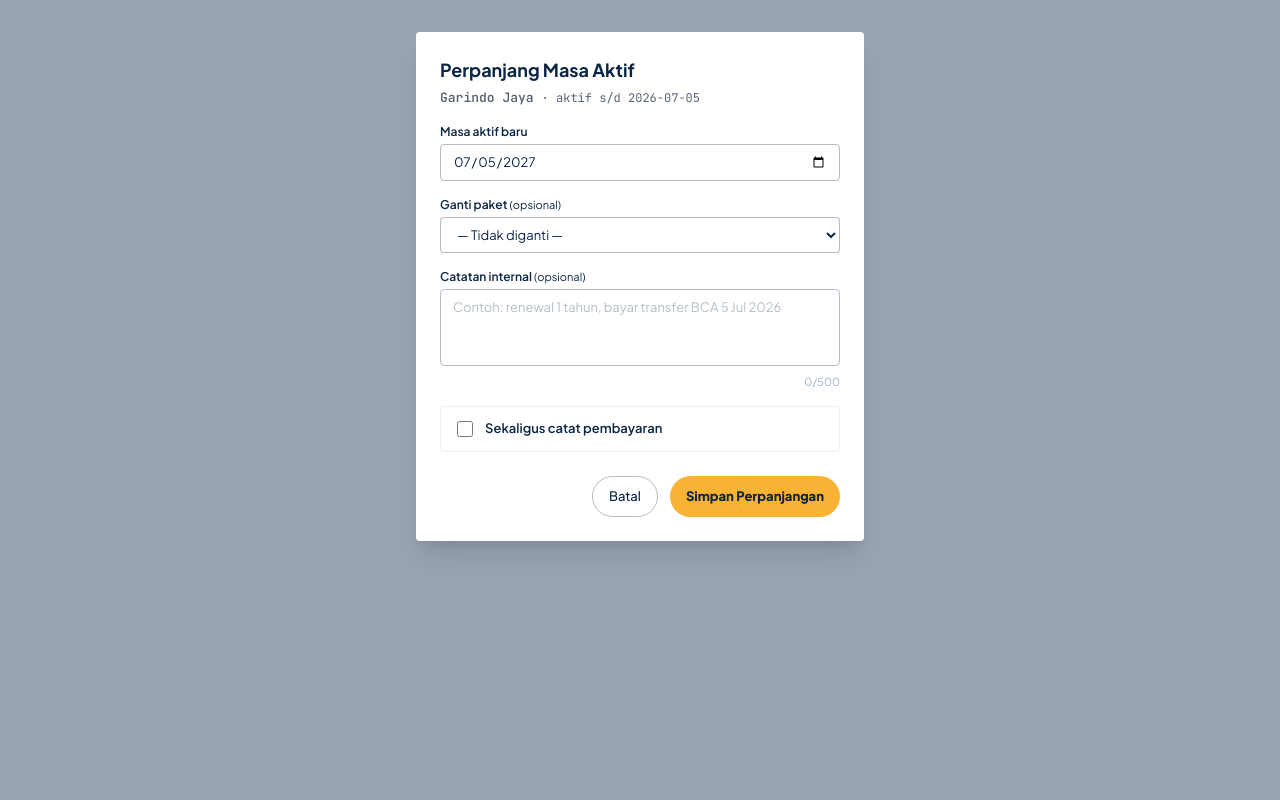
Test: RenewSubscriptionModal › expands payment fields when checkbox is checked
The image size is (1280, 800).
What coordinates should you click on to do the following:
click the checkbox with test id "renew-pay-toggle"
I would click on:
 (465, 429)
Its box is [457,421,473,437].
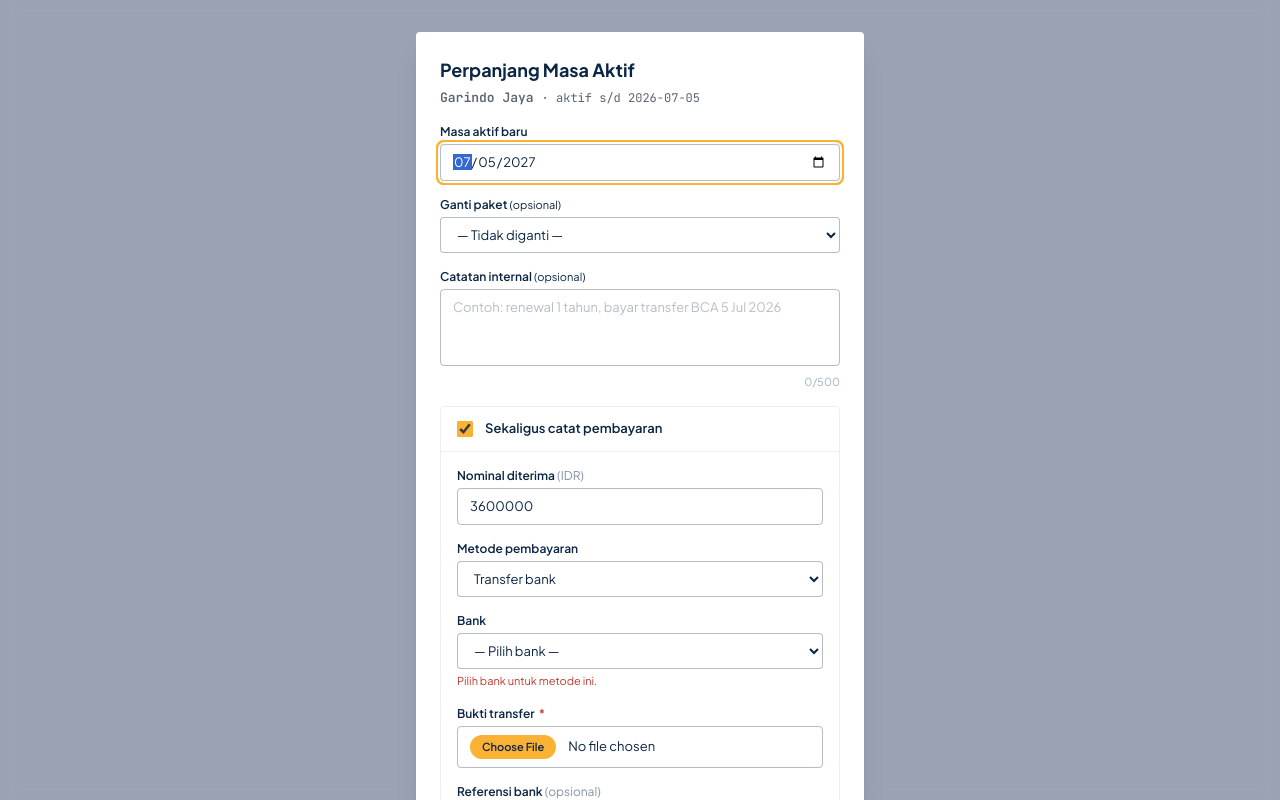
Expected: the number field with test id "renew-pay-amount" is shown, [457,488,823,525]
Expected: the dropdown with test id "renew-pay-method" is shown, [457,561,823,597]
Expected: the file field with test id "renew-pay-proof" is shown, [457,726,823,768]
